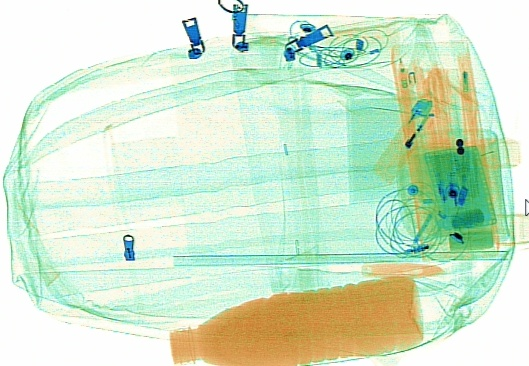lighter: (371, 95, 439, 183)
